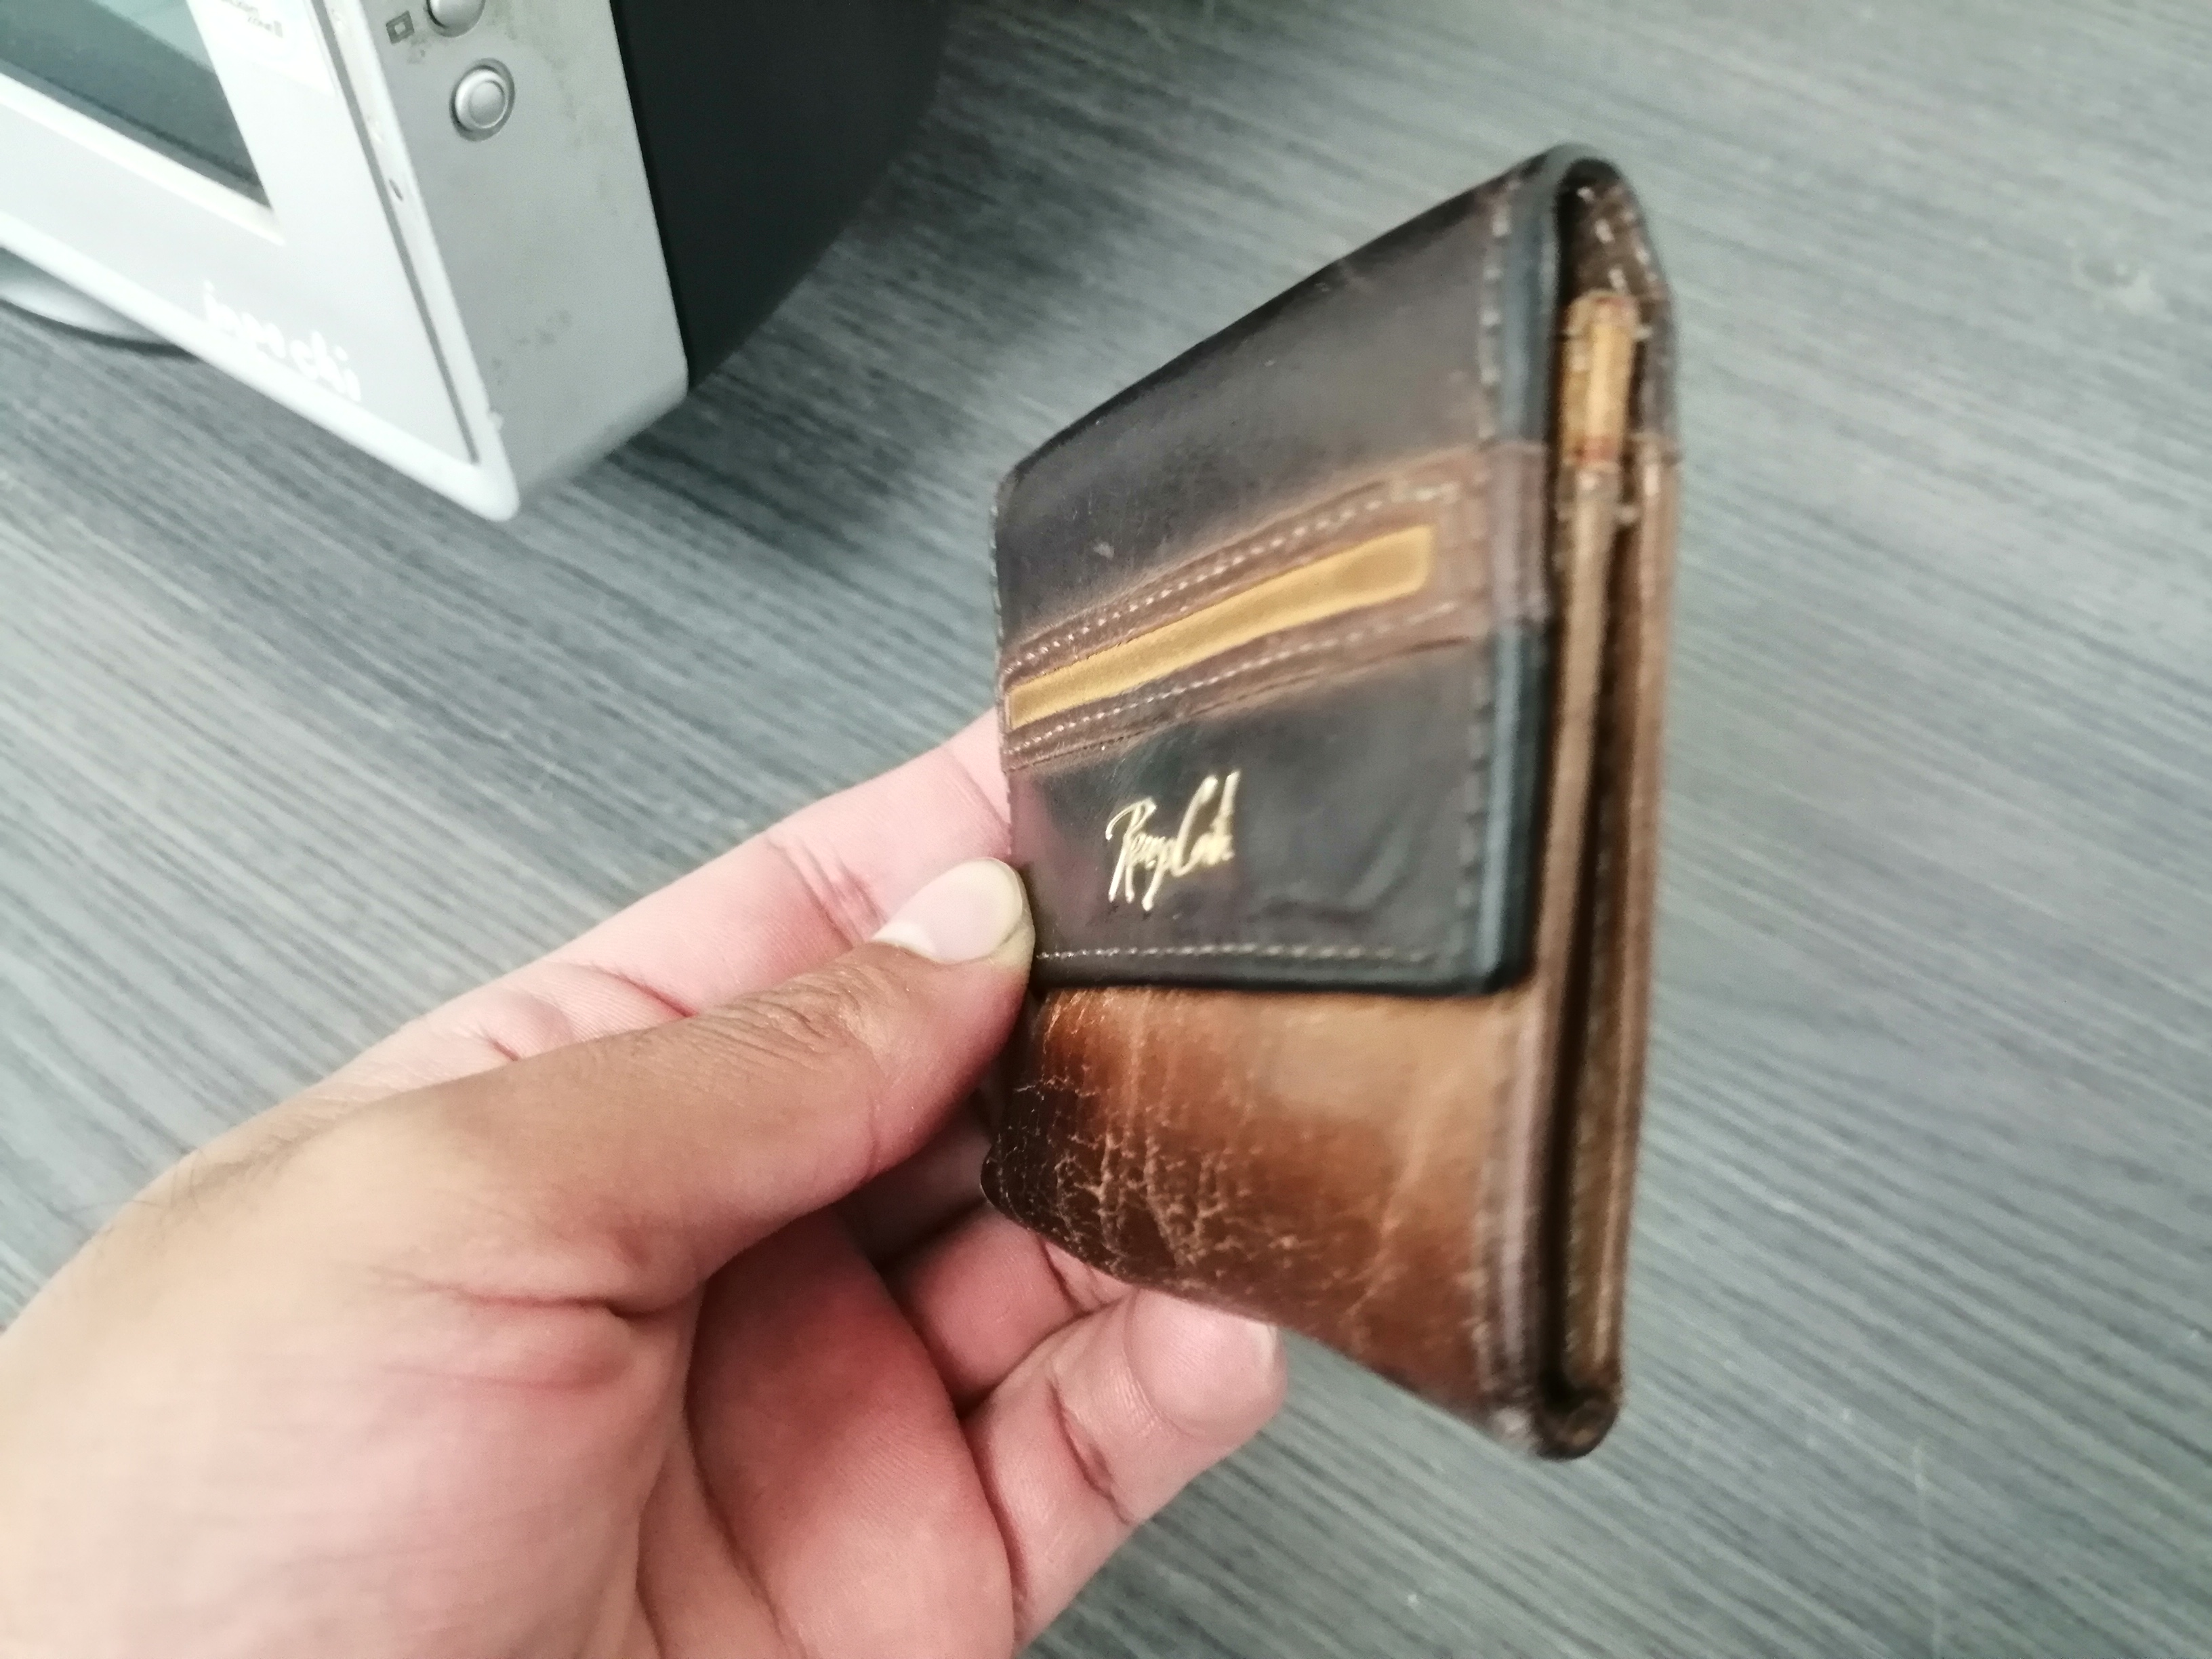monedero: (972, 122, 1691, 1488)
